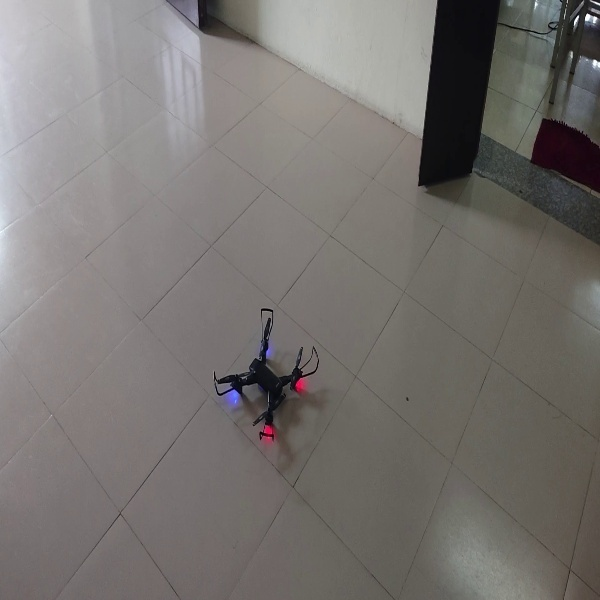drone: (207, 300, 326, 446)
